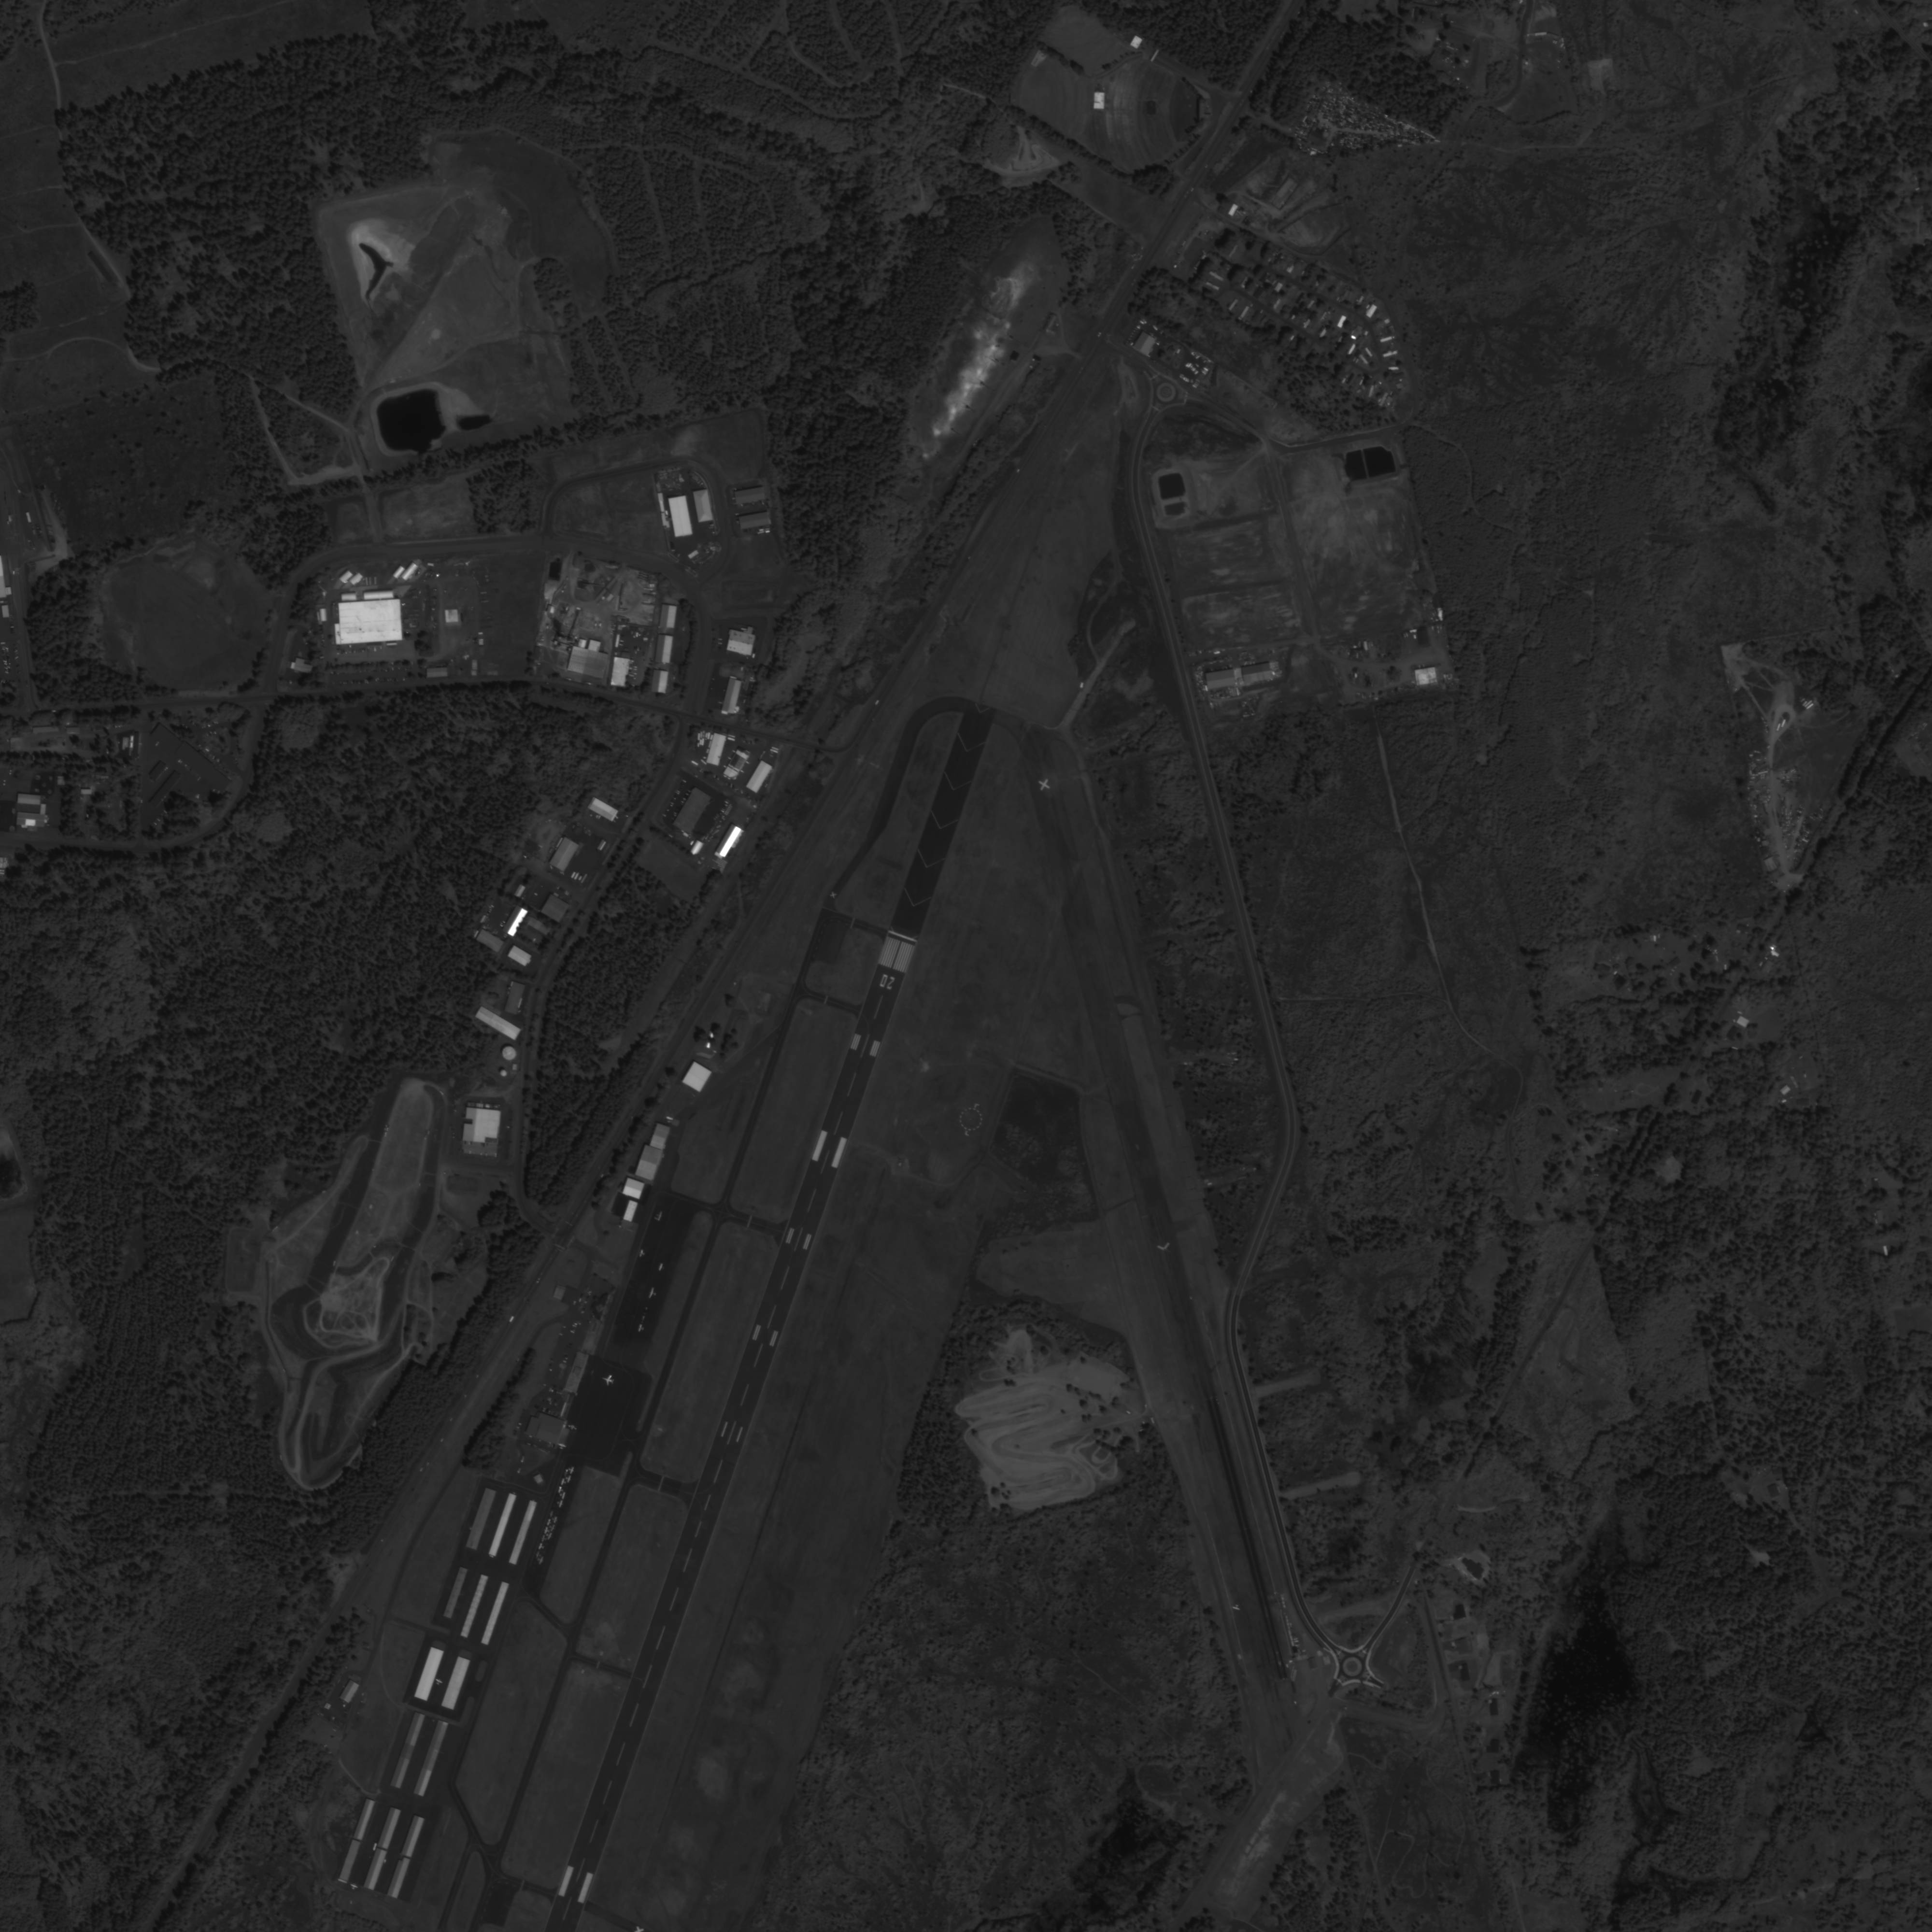roundabout: (1341, 1652, 1366, 1679), (1155, 380, 1178, 403)
storage tank: (502, 1046, 517, 1062)
